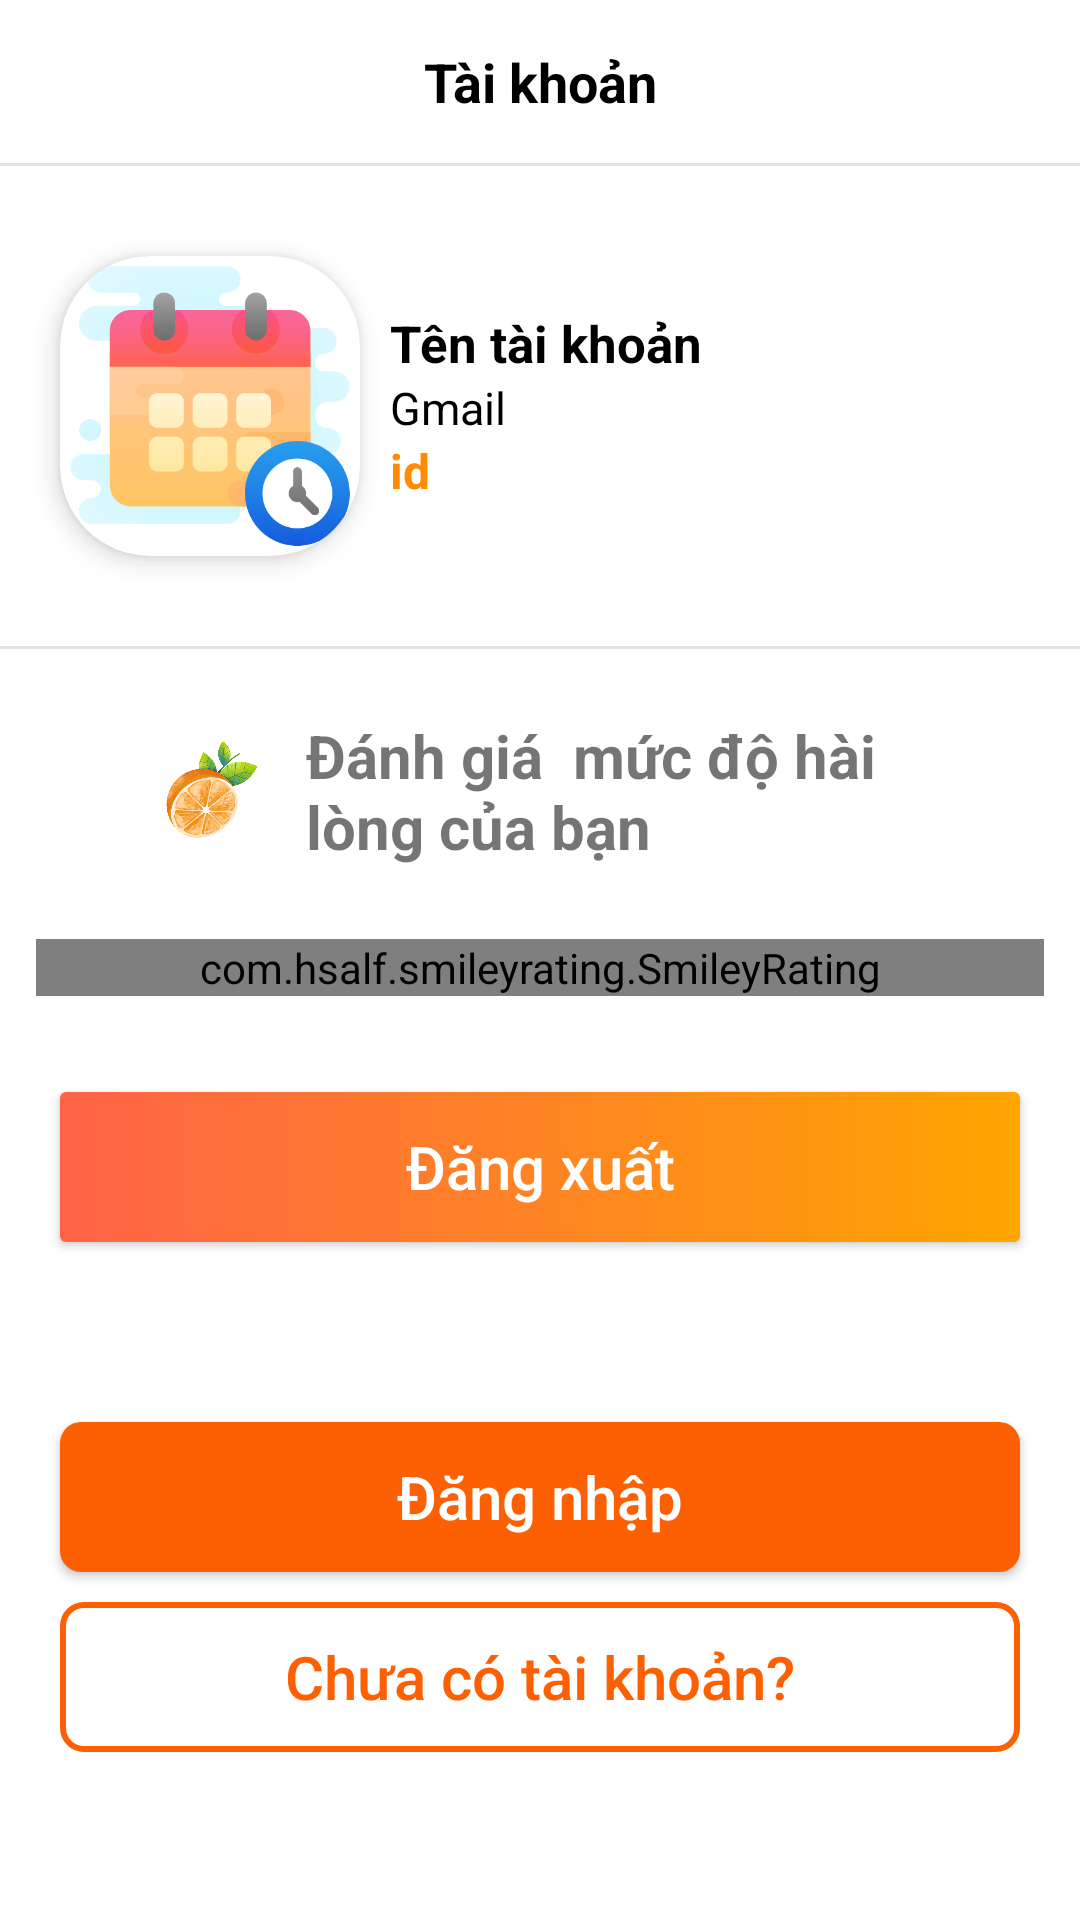

Locate icon controls on the screen. Image size 1080px x 1920px, boxes as (x1, y1, x2, y2).
hinh: (60, 266, 350, 556), (166, 741, 258, 838)
